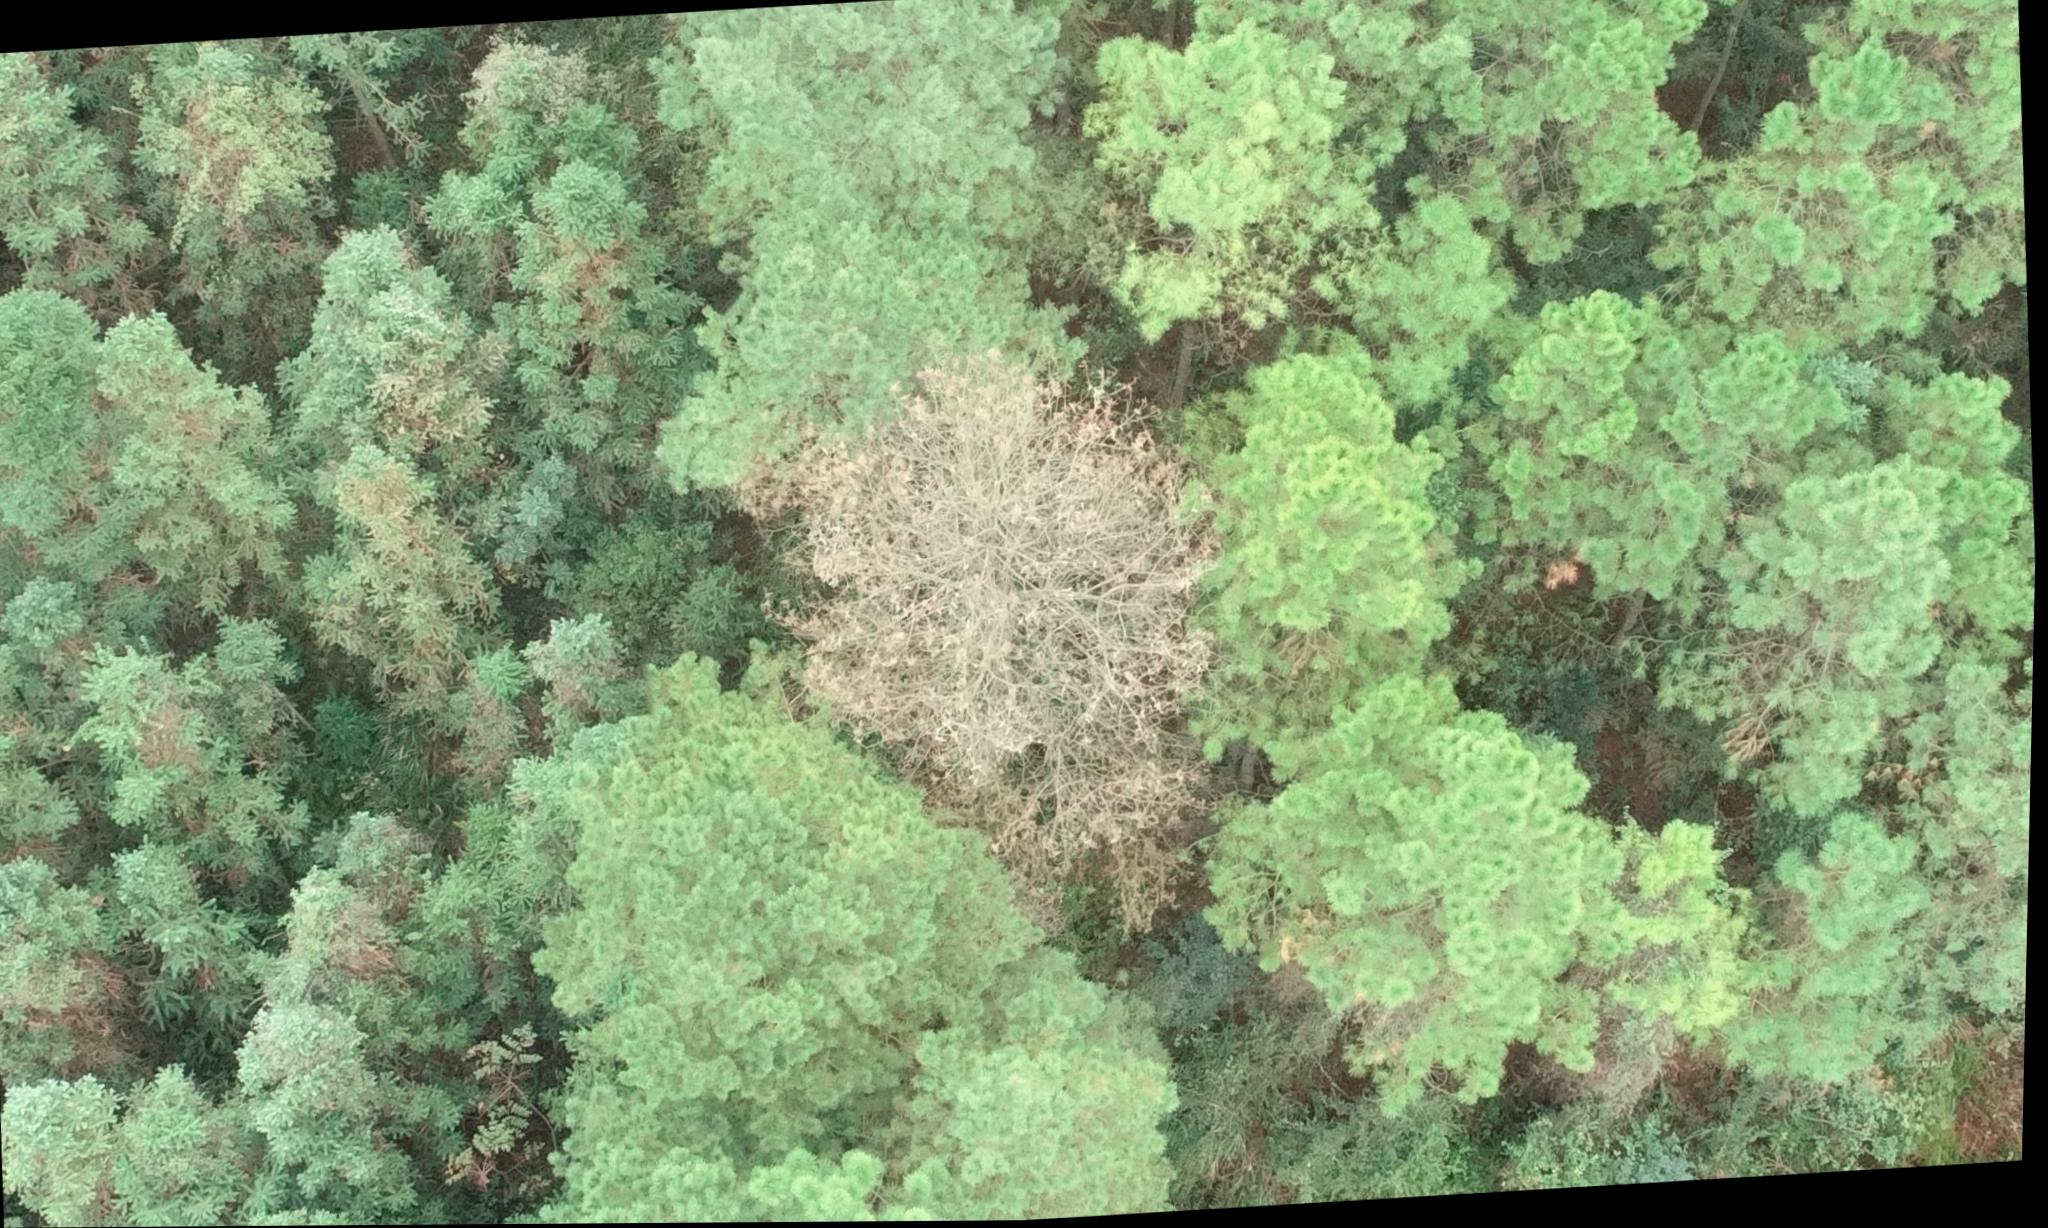heavy: (729, 329, 1221, 924)
